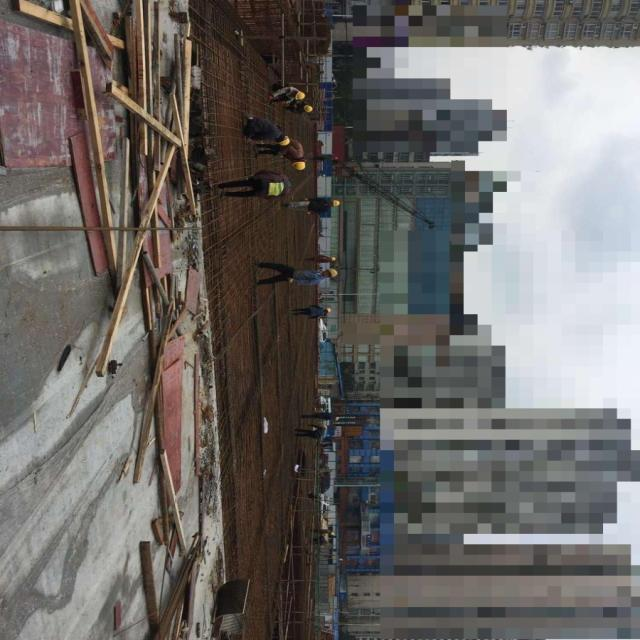crane: (336, 159, 435, 229)
